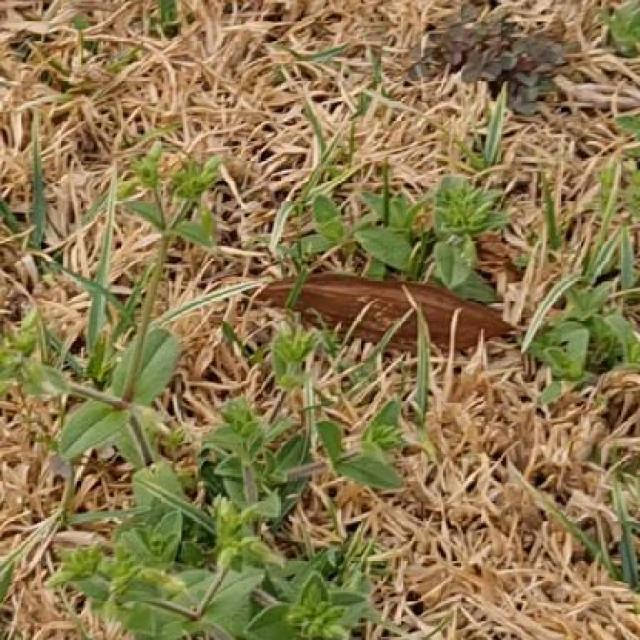weed: (3, 146, 371, 640), (286, 177, 509, 302), (532, 274, 640, 384), (312, 402, 406, 491)
